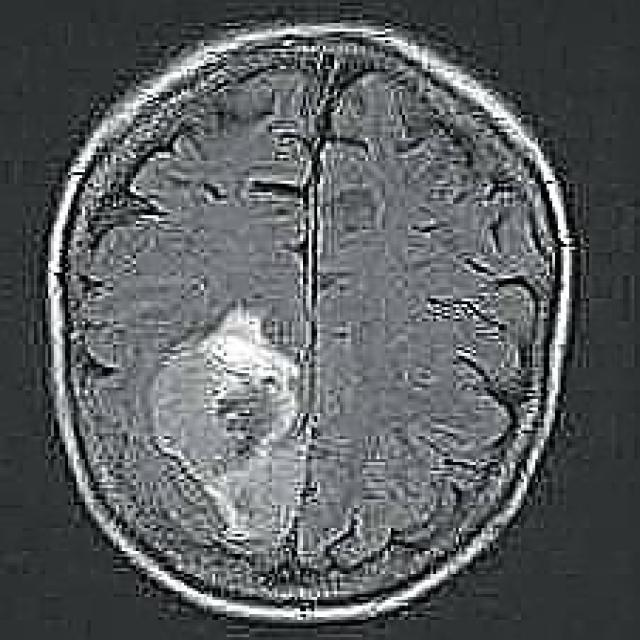Tumor-Cell: (174, 324, 314, 508)
